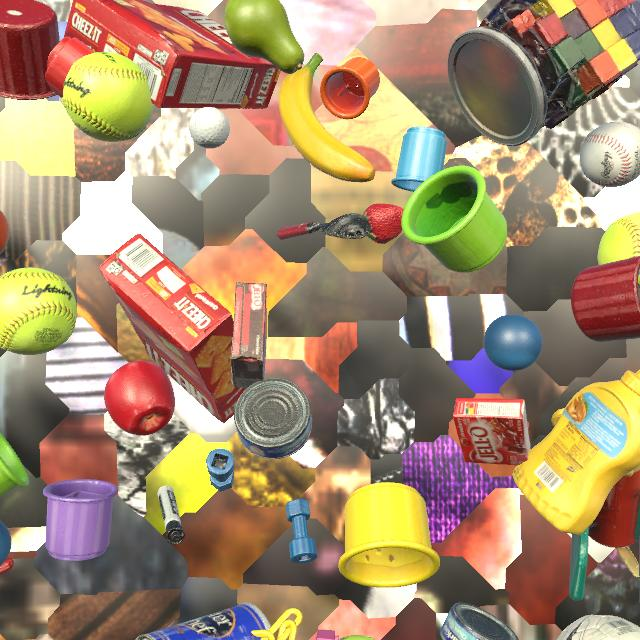ycb_002_master_chef_can: (136, 602, 271, 640)
ycb_003_cracker_box: (99, 233, 246, 423), (64, 0, 281, 109)
ycb_006_mustard_bottle: (513, 369, 640, 535)
ycb_007_tuna_fish_can: (234, 378, 312, 459), (440, 602, 519, 640)
ycb_008_pudding_box: (230, 282, 267, 388)
ycb_009_gelatin_box: (453, 398, 531, 465)
ycb_011_banana: (279, 53, 375, 182)
ycb_012_strawberry: (363, 203, 404, 244)
ycb_013_apple: (104, 361, 175, 435)
ycb_016_pear: (224, 0, 304, 74)
ycb_017_orange: (0, 210, 9, 254)
